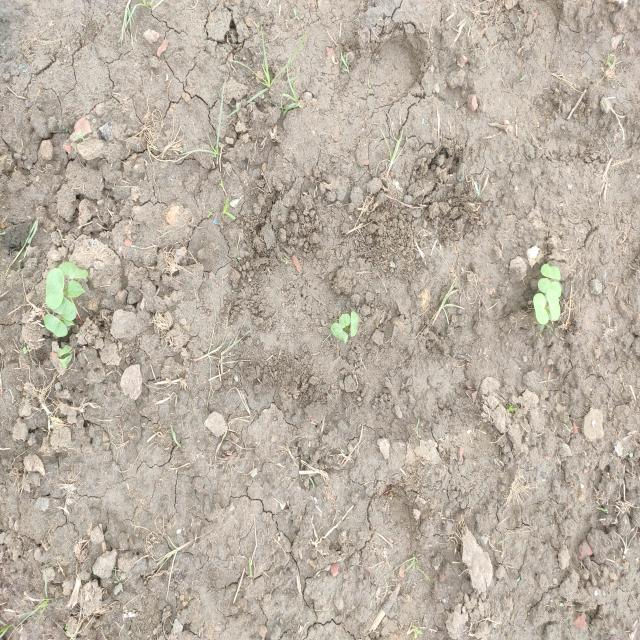seedling_s4: (45, 268, 64, 309), (52, 296, 77, 321), (44, 314, 68, 337), (533, 293, 549, 324), (59, 262, 88, 279), (538, 278, 562, 298), (546, 288, 561, 319), (331, 322, 348, 343), (67, 280, 86, 298), (541, 263, 560, 280), (350, 311, 359, 337), (58, 354, 72, 368), (58, 345, 72, 357), (339, 314, 351, 328)
